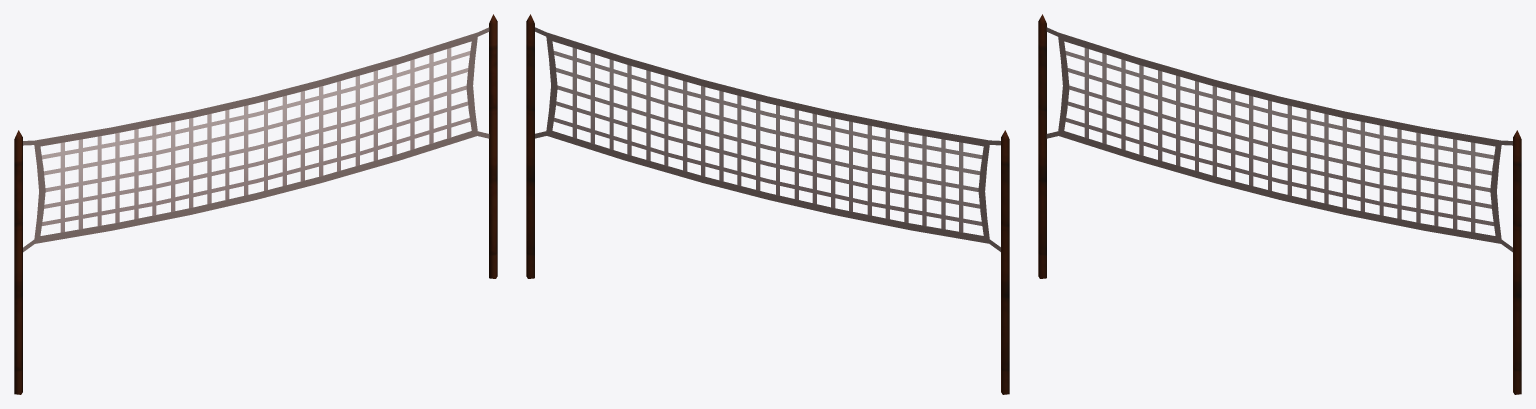
The model's file is BeachNet_01.fbx.
The picture shows the model from 3 angles, left to right: view 1: azimuth 30°, elevation 25°; view 2: azimuth 150°, elevation 25°; view 3: azimuth 330°, elevation 25°; orthographic projection.
Parts seen in each view (by area): view 1: BeachNet_01; view 2: BeachNet_01; view 3: BeachNet_01.
Boxes of the visible parts, x1,y1,x2,y2 form: BeachNet_01: [14, 14, 497, 394]; BeachNet_01: [526, 14, 1009, 394]; BeachNet_01: [1038, 14, 1521, 394].
Size of the model in its own units: 118 by 61.19 by 2.11.
